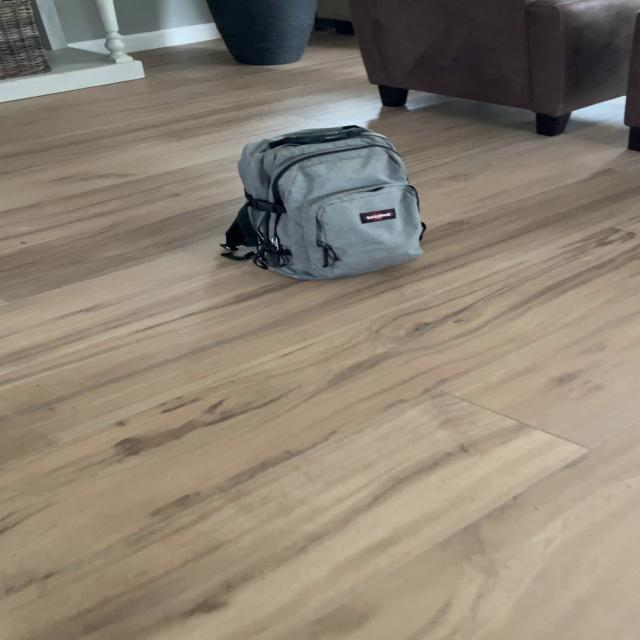backpack: (213, 117, 434, 289)
